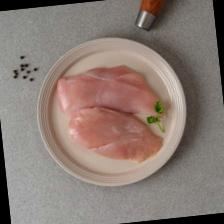chicken: (54, 60, 165, 128), (64, 98, 166, 171)
